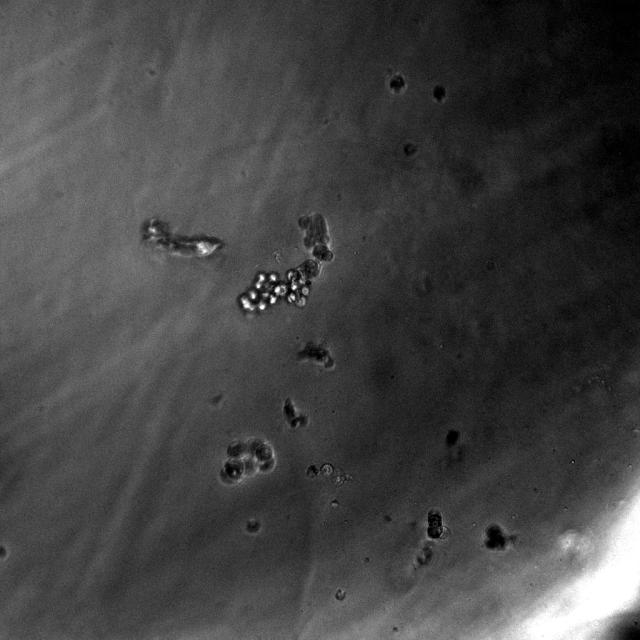organoid: (239, 214, 333, 312), (141, 219, 223, 259), (221, 438, 274, 483), (297, 342, 334, 369), (484, 524, 517, 549), (283, 398, 308, 428), (320, 463, 352, 485), (428, 508, 450, 540), (386, 73, 407, 95), (245, 518, 261, 535), (432, 85, 446, 102), (403, 142, 418, 157), (446, 430, 459, 445), (306, 465, 319, 477), (335, 588, 346, 601)
